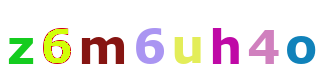4: (178, 0, 258, 80)
6: (16, 0, 96, 80), (125, 0, 205, 80)
H: (159, 0, 239, 80)
M: (58, 0, 138, 80)
O: (249, 0, 329, 80)
U: (143, 0, 223, 80)
Z: (0, 0, 80, 80)
